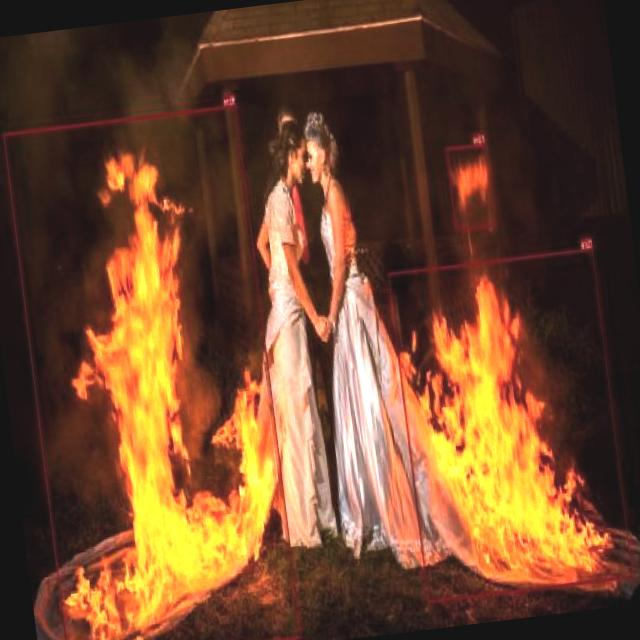fire: (2, 103, 301, 640), (388, 247, 634, 602), (446, 143, 496, 230)
